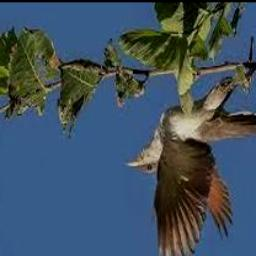Cuckoo: (124, 81, 256, 256)
